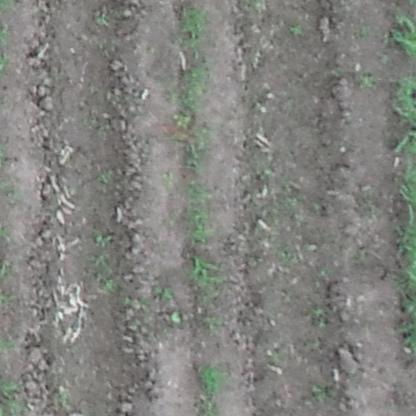corn: (179, 61, 211, 112), (191, 248, 225, 291), (179, 6, 207, 50), (200, 361, 225, 395)
vc: (169, 308, 183, 326)
